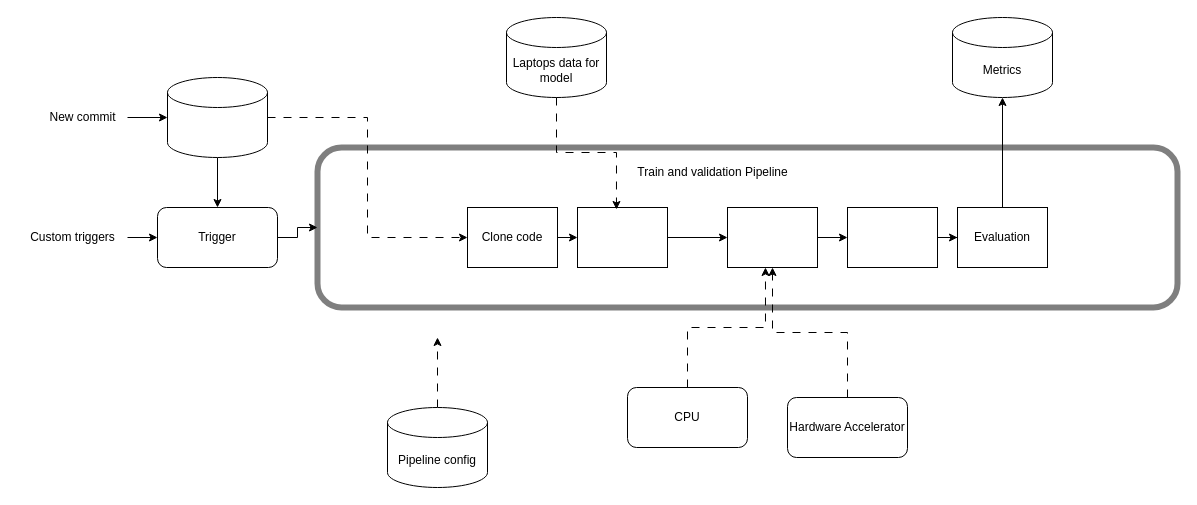
This 1197x505 diagram has some shape labels left out. Each missing label, with the centre of its shape:
"Git repo" goes at point (217, 117).
"Load Data" goes at point (622, 237).
"Optimize model" goes at point (892, 237).
"Train machine learning model" goes at point (772, 237).
